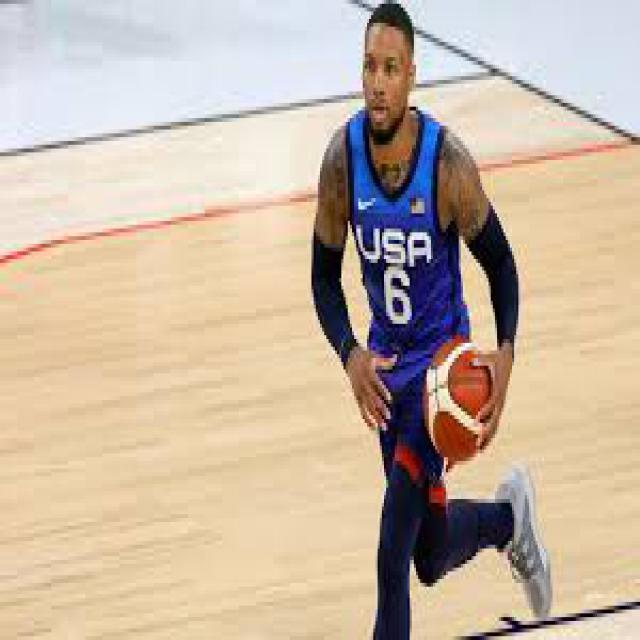basketball: (420, 343, 493, 465)
